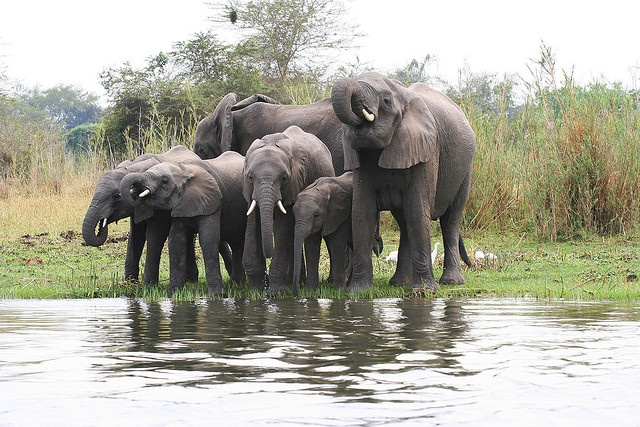elephant: (330, 71, 478, 290), (123, 149, 249, 291), (80, 141, 200, 286), (240, 124, 336, 291), (192, 89, 360, 177), (292, 170, 384, 295)
